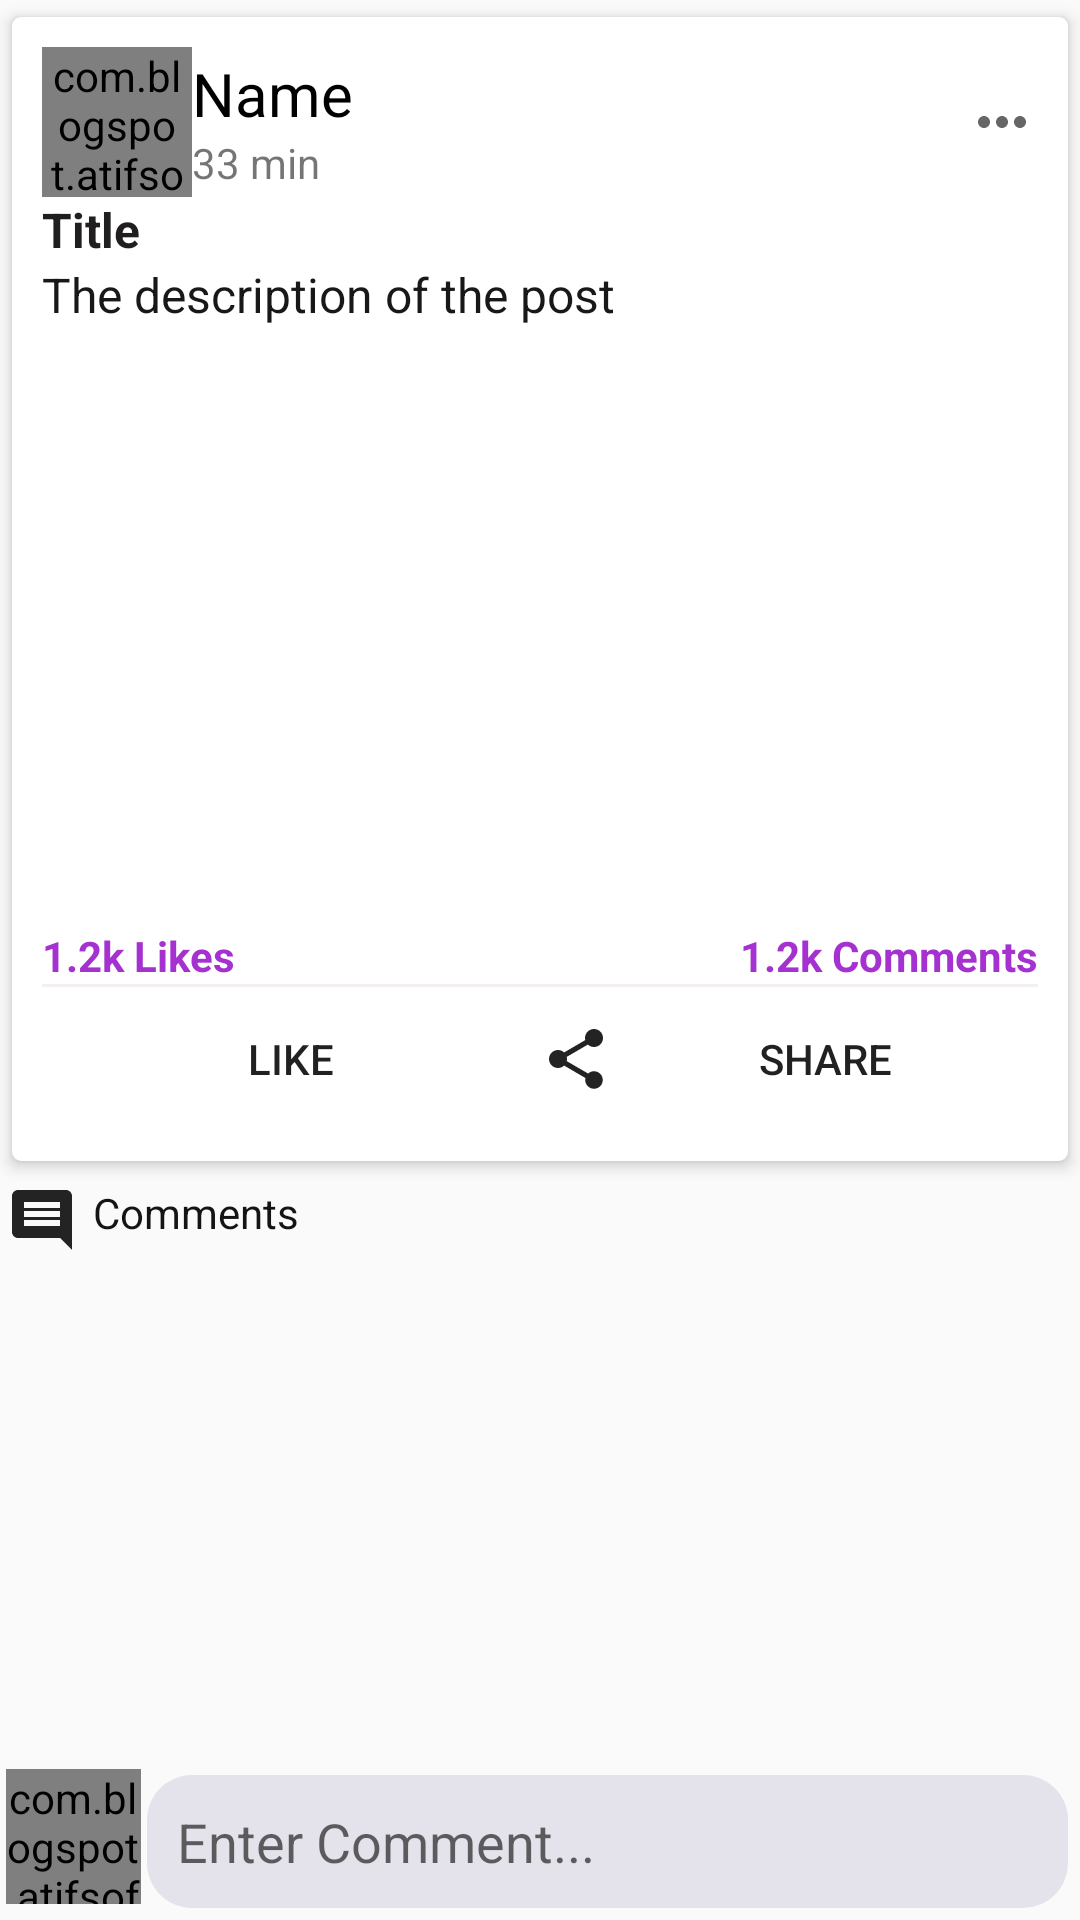

Point at icon controls on the screen. Image size 1080 × 1920, points as (x,y).
more: (1002,122)
